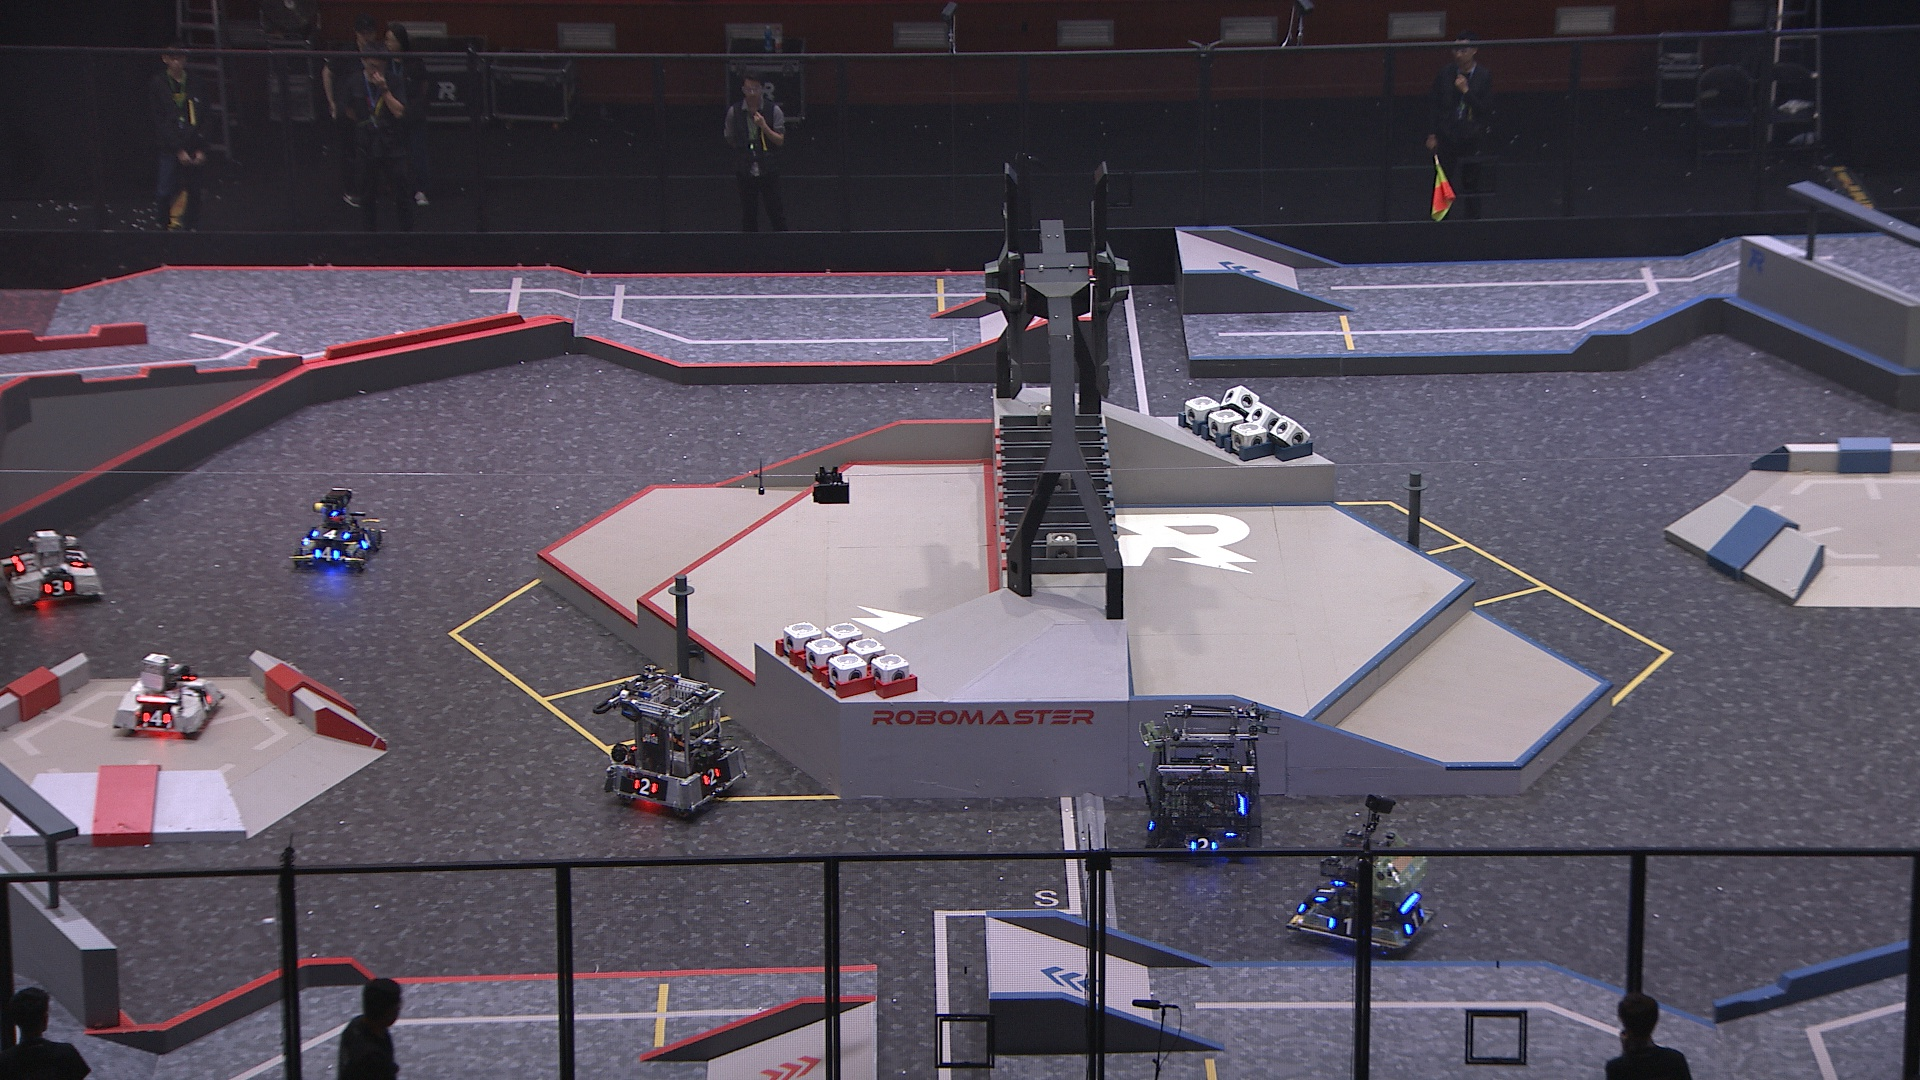armor: (1309, 874, 1346, 909), (1321, 910, 1361, 938), (40, 575, 76, 603), (1403, 903, 1429, 939), (1185, 832, 1218, 856), (141, 705, 175, 728), (632, 773, 659, 799), (306, 526, 349, 542), (699, 765, 727, 789), (63, 545, 87, 567), (311, 545, 342, 562), (196, 688, 215, 711), (361, 529, 375, 551)
car: (600, 669, 752, 818), (1288, 823, 1437, 959), (1145, 707, 1265, 864), (112, 644, 223, 742), (291, 485, 381, 572)
